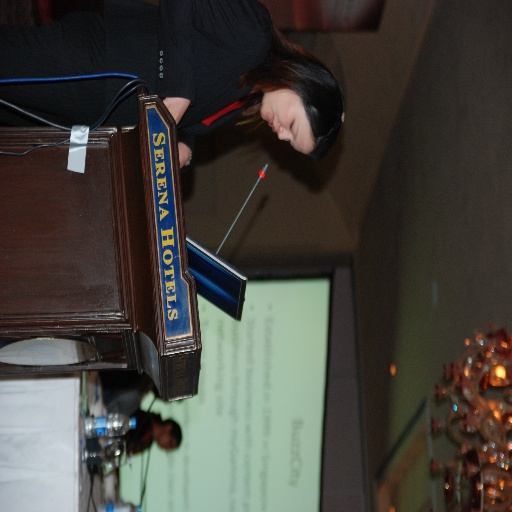hand: (163, 97, 191, 123), (176, 140, 192, 168)
